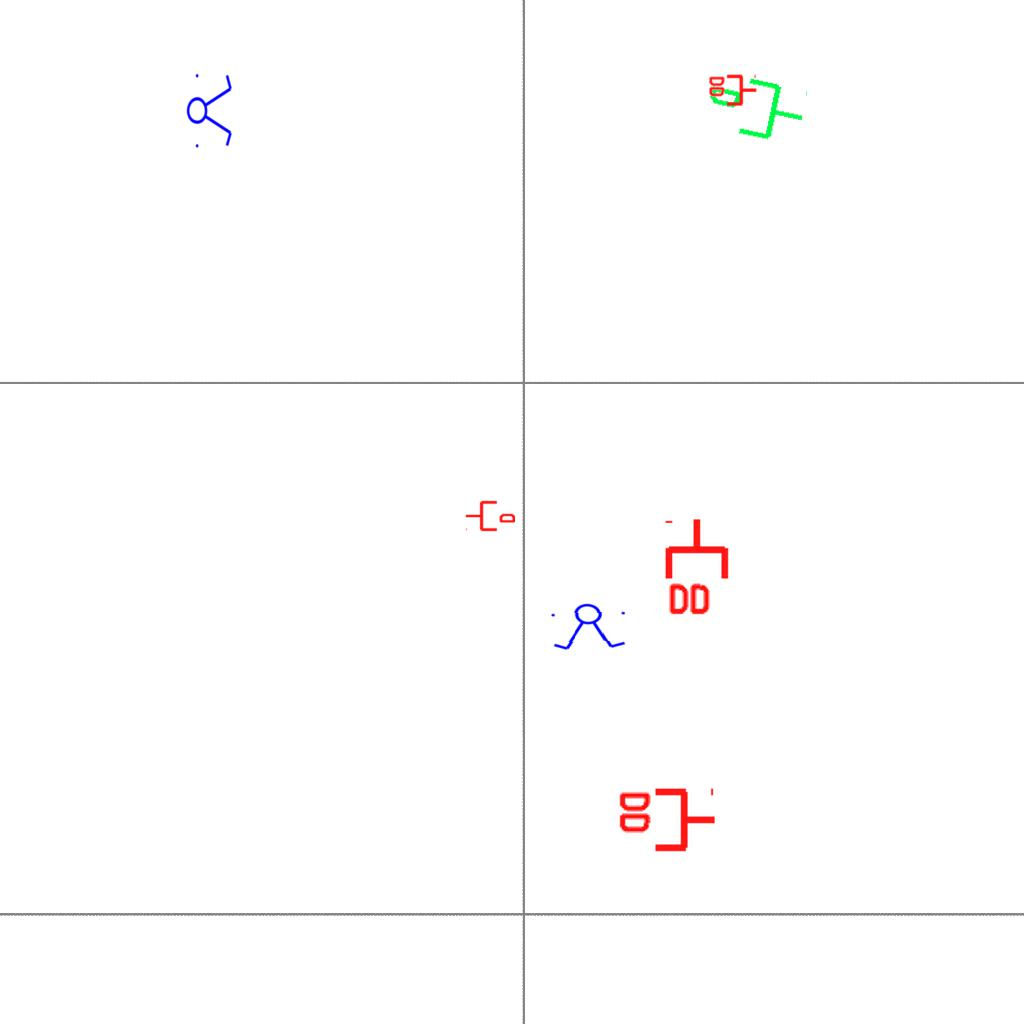Datenanschluss_einfach: (699, 65, 812, 155), (465, 499, 515, 533)
Datenanschluss_zweifach: (615, 787, 718, 856), (664, 516, 733, 619), (707, 74, 758, 108)
Serienschalter: (546, 601, 632, 653), (186, 68, 234, 152)
